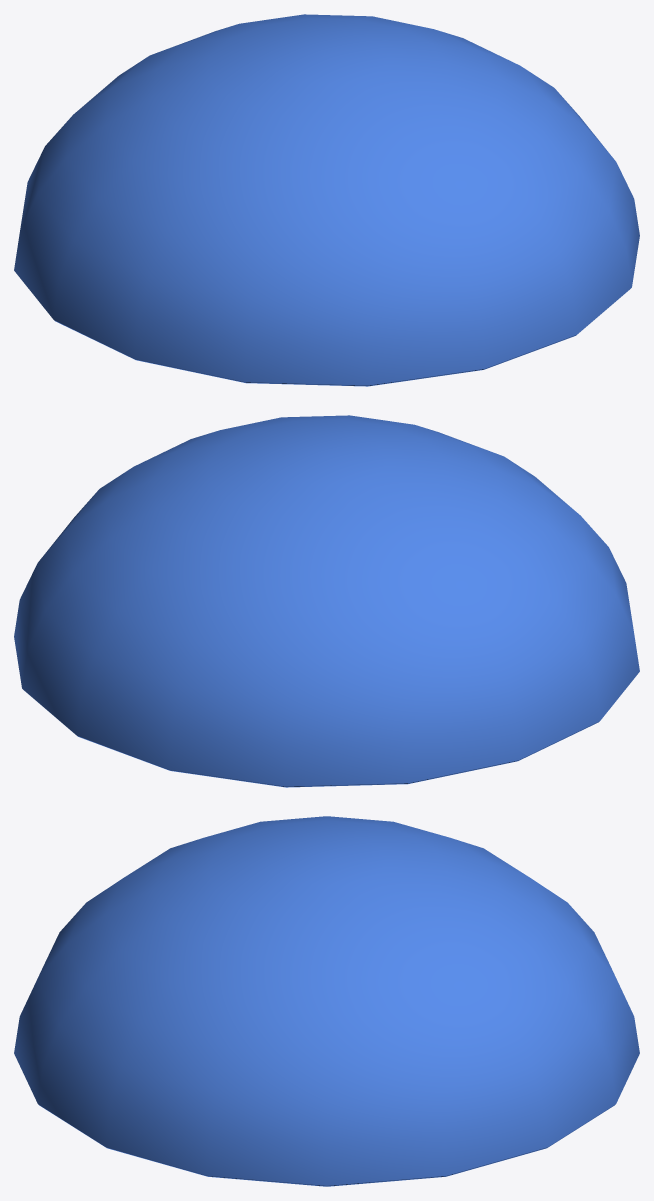
Rendered from SM_Building_02_part_03.fbx.
3 views of the same model, one above another, from view 1: azimuth 30°, elevation 25°; view 2: azimuth 150°, elevation 25°; view 3: azimuth 270°, elevation 25° (orthographic).
Parts seen in each view (by area): view 1: SM_Building_02_Part_03; view 2: SM_Building_02_Part_03; view 3: SM_Building_02_Part_03.
Boxes of the visible parts, x1,y1,x2,y2 form: SM_Building_02_Part_03: [14, 14, 639, 386]; SM_Building_02_Part_03: [14, 415, 639, 787]; SM_Building_02_Part_03: [14, 816, 639, 1186].
Bounding box in the file's own units: 2864 × 1006 × 2864.
